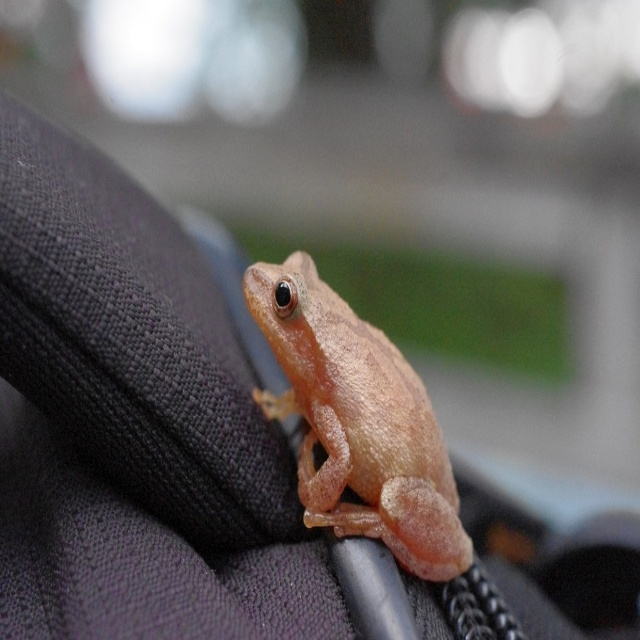Frog: (242, 249, 474, 582)
